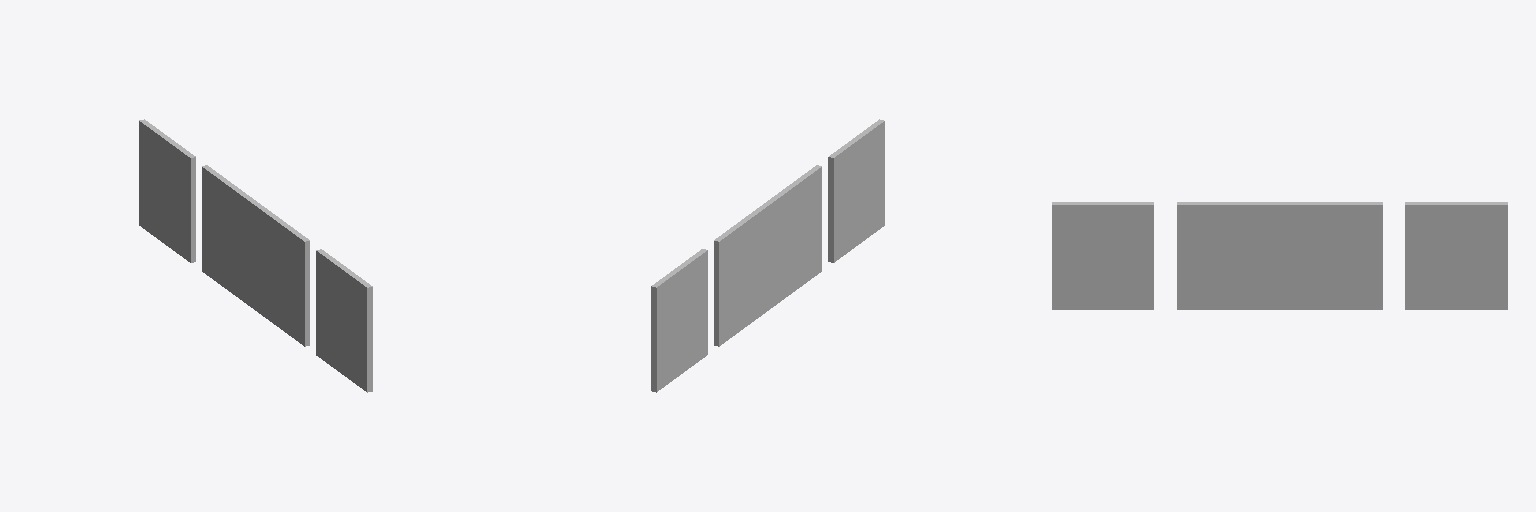
The model's file is puertaarriba.obj.
3 renders of one model, left to right at view 1: azimuth 30°, elevation 25°; view 2: azimuth 150°, elevation 25°; view 3: azimuth 270°, elevation 25°, orthographic.
Visible parts, largest first — view 1: puerta12:pCube1 pasted__pasted__group252 pasted__pasted__group25, puerta11:pCube1 pasted__group252 pasted__group250 pasted__group2, puerta10:pCube1 pasted__group252 pasted__group250 pasted__group2; view 2: puerta12:pCube1 pasted__pasted__group252 pasted__pasted__group25, puerta11:pCube1 pasted__group252 pasted__group250 pasted__group2, puerta10:pCube1 pasted__group252 pasted__group250 pasted__group2; view 3: puerta12:pCube1 pasted__pasted__group252 pasted__pasted__group25, puerta11:pCube1 pasted__group252 pasted__group250 pasted__group2, puerta10:pCube1 pasted__group252 pasted__group250 pasted__group2.
Part boxes in pixels (bbox=[...]): puerta12:pCube1 pasted__pasted__group252 pasted__pasted__group25: bbox=[202, 165, 309, 346]; puerta11:pCube1 pasted__group252 pasted__group250 pasted__group2: bbox=[139, 119, 195, 262]; puerta10:pCube1 pasted__group252 pasted__group250 pasted__group2: bbox=[316, 249, 372, 392]; puerta12:pCube1 pasted__pasted__group252 pasted__pasted__group25: bbox=[714, 165, 821, 346]; puerta11:pCube1 pasted__group252 pasted__group250 pasted__group2: bbox=[651, 249, 707, 392]; puerta10:pCube1 pasted__group252 pasted__group250 pasted__group2: bbox=[828, 119, 884, 262]; puerta12:pCube1 pasted__pasted__group252 pasted__pasted__group25: bbox=[1177, 202, 1382, 309]; puerta11:pCube1 pasted__group252 pasted__group250 pasted__group2: bbox=[1405, 202, 1507, 309]; puerta10:pCube1 pasted__group252 pasted__group250 pasted__group2: bbox=[1052, 202, 1153, 309].
Bounding box in the file's own units: 0.2312 × 4.22 × 16.6.